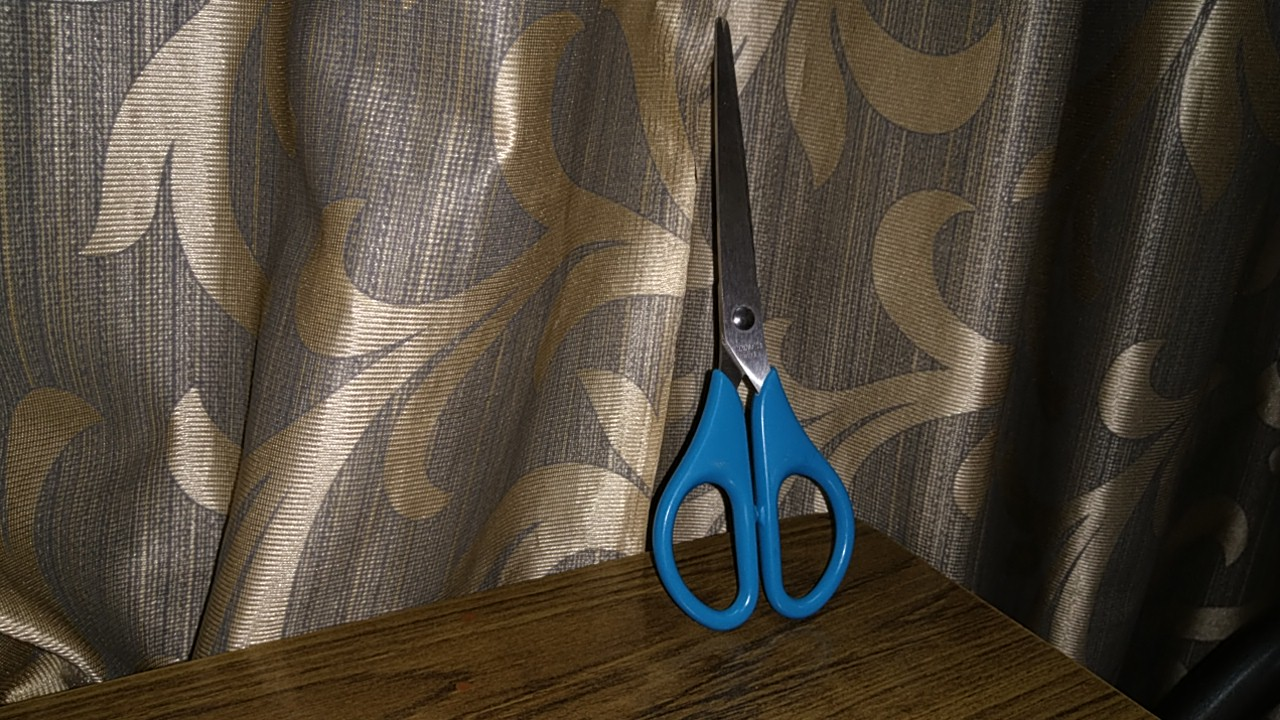scissor: (641, 12, 864, 637)
